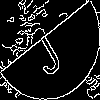J: (25, 25, 65, 79)
